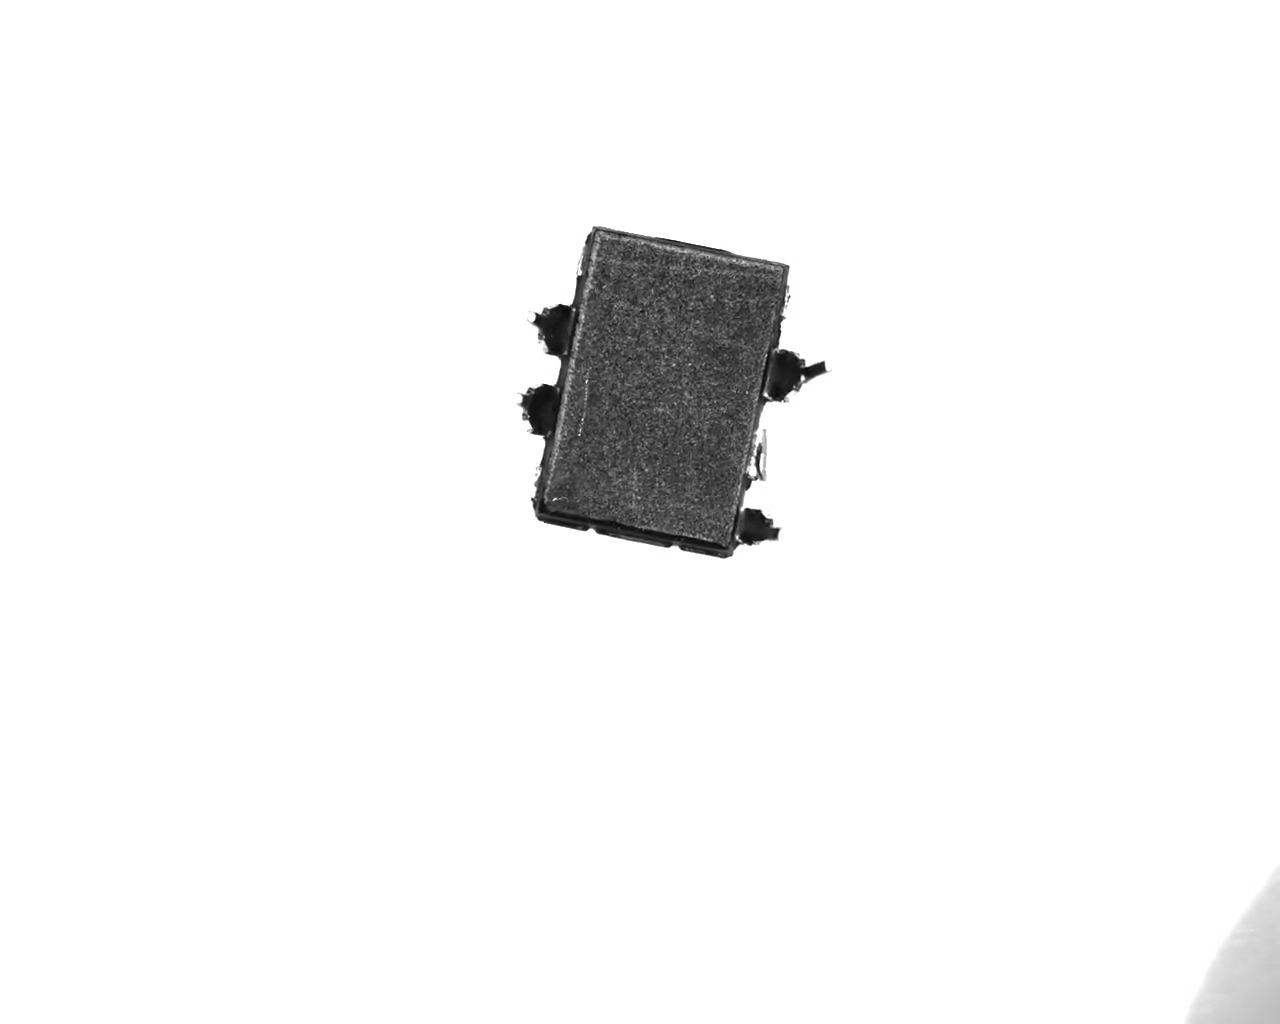brokenLeg: (761, 339, 832, 404), (512, 295, 580, 360), (727, 501, 786, 557), (512, 378, 566, 439)
missingLeg: (519, 447, 556, 505), (743, 423, 773, 487), (562, 230, 598, 284), (777, 267, 804, 330)
